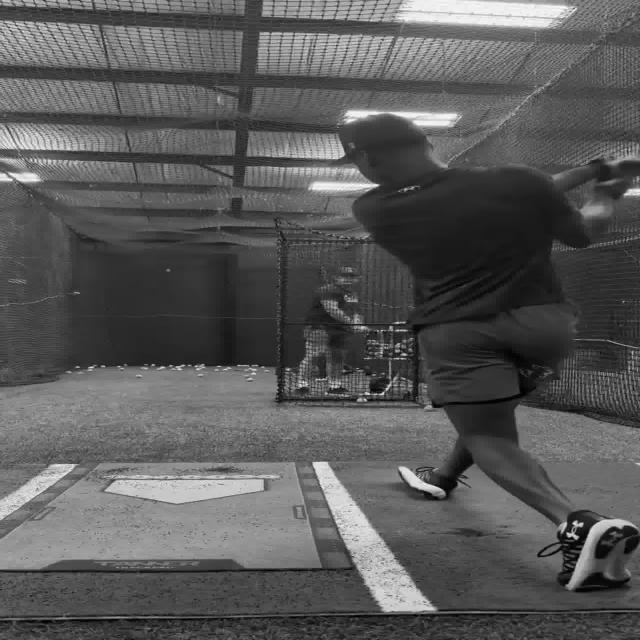baseball: (356, 397, 367, 403), (244, 378, 253, 382)
shoe: (551, 509, 639, 591), (396, 466, 464, 500), (325, 386, 352, 398), (290, 386, 310, 396)
